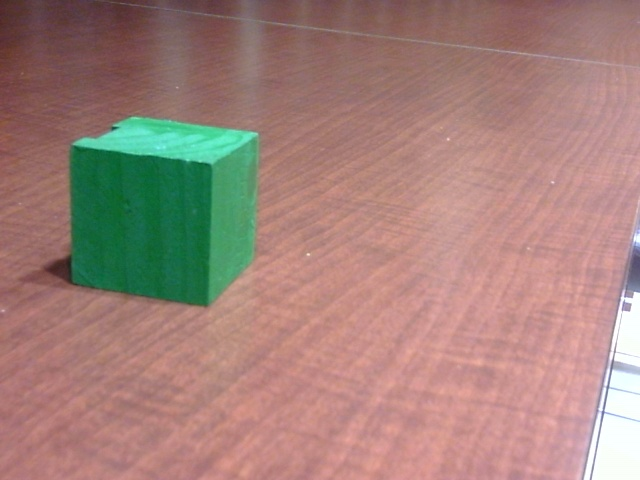GreenBlock: (69, 145, 227, 309)
